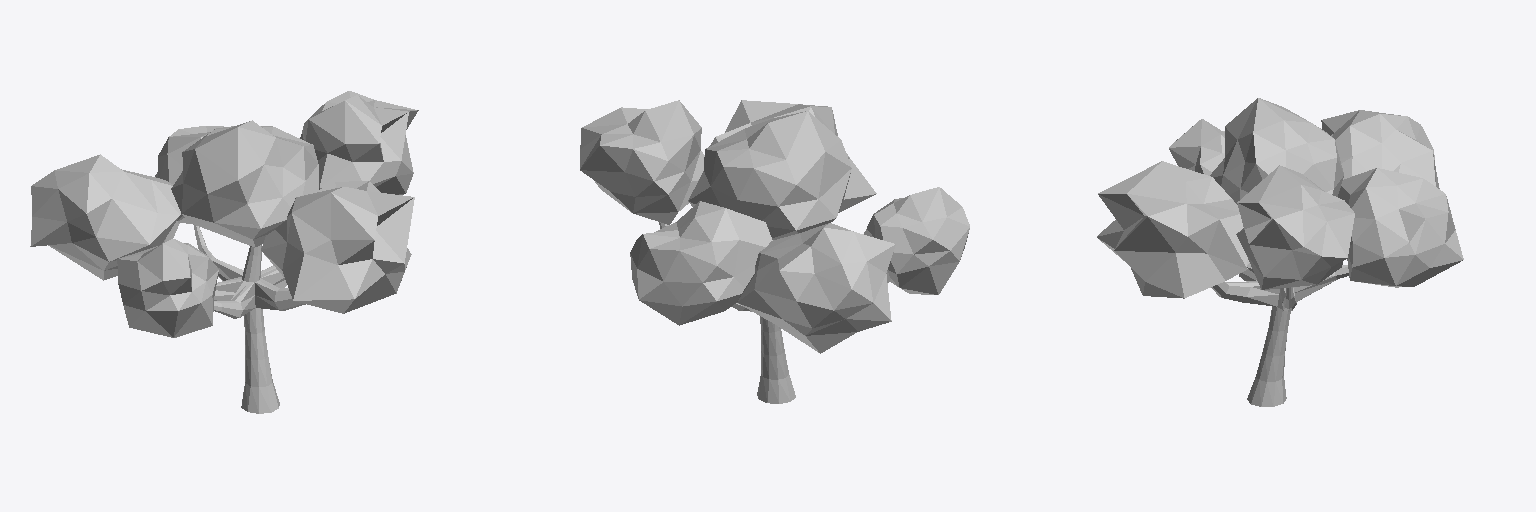
The model's file is Sketchfab_2017_09_01_21_37_34.obj.
The picture shows the model from 3 angles: view 1: azimuth 30°, elevation 25°; view 2: azimuth 150°, elevation 25°; view 3: azimuth 270°, elevation 25°; orthographic projection.
Parts seen in each view (by area): view 1: Icosphere.004, Icosphere, Icosphere.001, Icosphere.003, Icosphere.002, Cylinder, Icosphere.005; view 2: Icosphere.001, Icosphere, Icosphere.005, Icosphere.003, Icosphere.002, Icosphere.004, Cylinder; view 3: Icosphere.004, Icosphere.005, Icosphere.003, Icosphere, Icosphere.001, Cylinder, Icosphere.002.
Boxes of the visible parts, x1=… form: Icosphere.004: x1=261, y1=181, x2=414, y2=313; Icosphere: x1=171, y1=120, x2=318, y2=246; Icosphere.001: x1=30, y1=154, x2=182, y2=280; Icosphere.003: x1=300, y1=91, x2=418, y2=194; Icosphere.002: x1=117, y1=239, x2=218, y2=337; Cylinder: x1=193, y1=224, x2=305, y2=413; Icosphere.005: x1=155, y1=126, x2=223, y2=223; Icosphere.001: x1=737, y1=223, x2=895, y2=353; Icosphere: x1=688, y1=111, x2=851, y2=239; Icosphere.005: x1=630, y1=201, x2=772, y2=325; Icosphere.003: x1=580, y1=100, x2=704, y2=224; Icosphere.002: x1=864, y1=187, x2=969, y2=294; Icosphere.004: x1=709, y1=100, x2=876, y2=212; Cylinder: x1=659, y1=222, x2=795, y2=403; Icosphere.004: x1=1097, y1=161, x2=1247, y2=298; Icosphere.005: x1=1338, y1=168, x2=1463, y2=287; Icosphere.003: x1=1236, y1=165, x2=1354, y2=289; Icosphere: x1=1210, y1=98, x2=1343, y2=204; Icosphere.001: x1=1321, y1=110, x2=1439, y2=188; Cylinder: x1=1211, y1=257, x2=1348, y2=406; Icosphere.002: x1=1169, y1=119, x2=1224, y2=175.
Size of the model in its own units: 40.55 by 32 by 36.99.